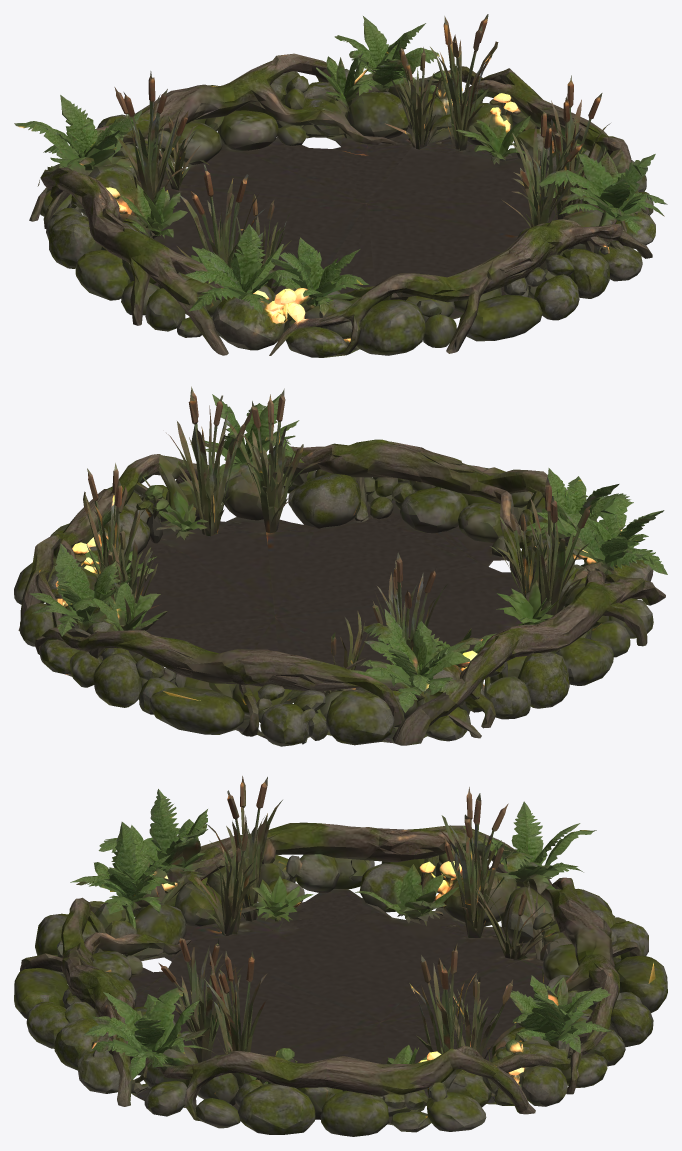
Rendered from sp_m_pond.glb.
3 views of the same model, one above another, from view 1: azimuth 30°, elevation 25°; view 2: azimuth 150°, elevation 25°; view 3: azimuth 270°, elevation 25° (orthographic). The views are drawn at different scales.
Visible parts, largest first — view 1: Mesh_0; view 2: Mesh_0; view 3: Mesh_0.
Part boxes in pixels (x1=…): Mesh_0: x1=14, y1=14, x2=667, y2=357; Mesh_0: x1=14, y1=386, x2=667, y2=746; Mesh_0: x1=14, y1=776, x2=667, y2=1136.
Size of the model in its own units: 1.85 by 0.4817 by 1.9.
Materials: 1 (1 with a texture image).
